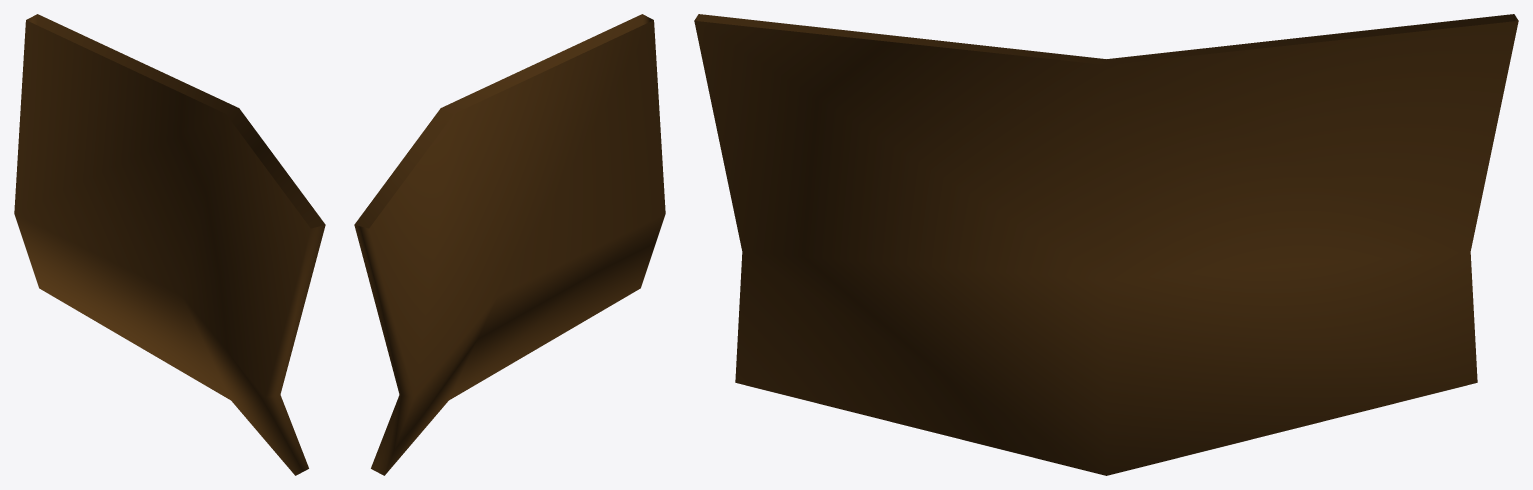
File: EthanEyes.glb
The picture shows the model from 3 angles, left to right: view 1: azimuth 30°, elevation 25°; view 2: azimuth 150°, elevation 25°; view 3: azimuth 270°, elevation 25°; orthographic projection. The views are drawn at different scales.
Parts seen in each view (by area): view 1: EthanEyes; view 2: EthanEyes; view 3: EthanEyes.
Part boxes in pixels (x1,y1,x2,y2): EthanEyes: [14, 14, 325, 475]; EthanEyes: [354, 14, 665, 475]; EthanEyes: [694, 14, 1518, 475].
Size of the model in its own units: 0.8328 by 2.25 by 4.01.
